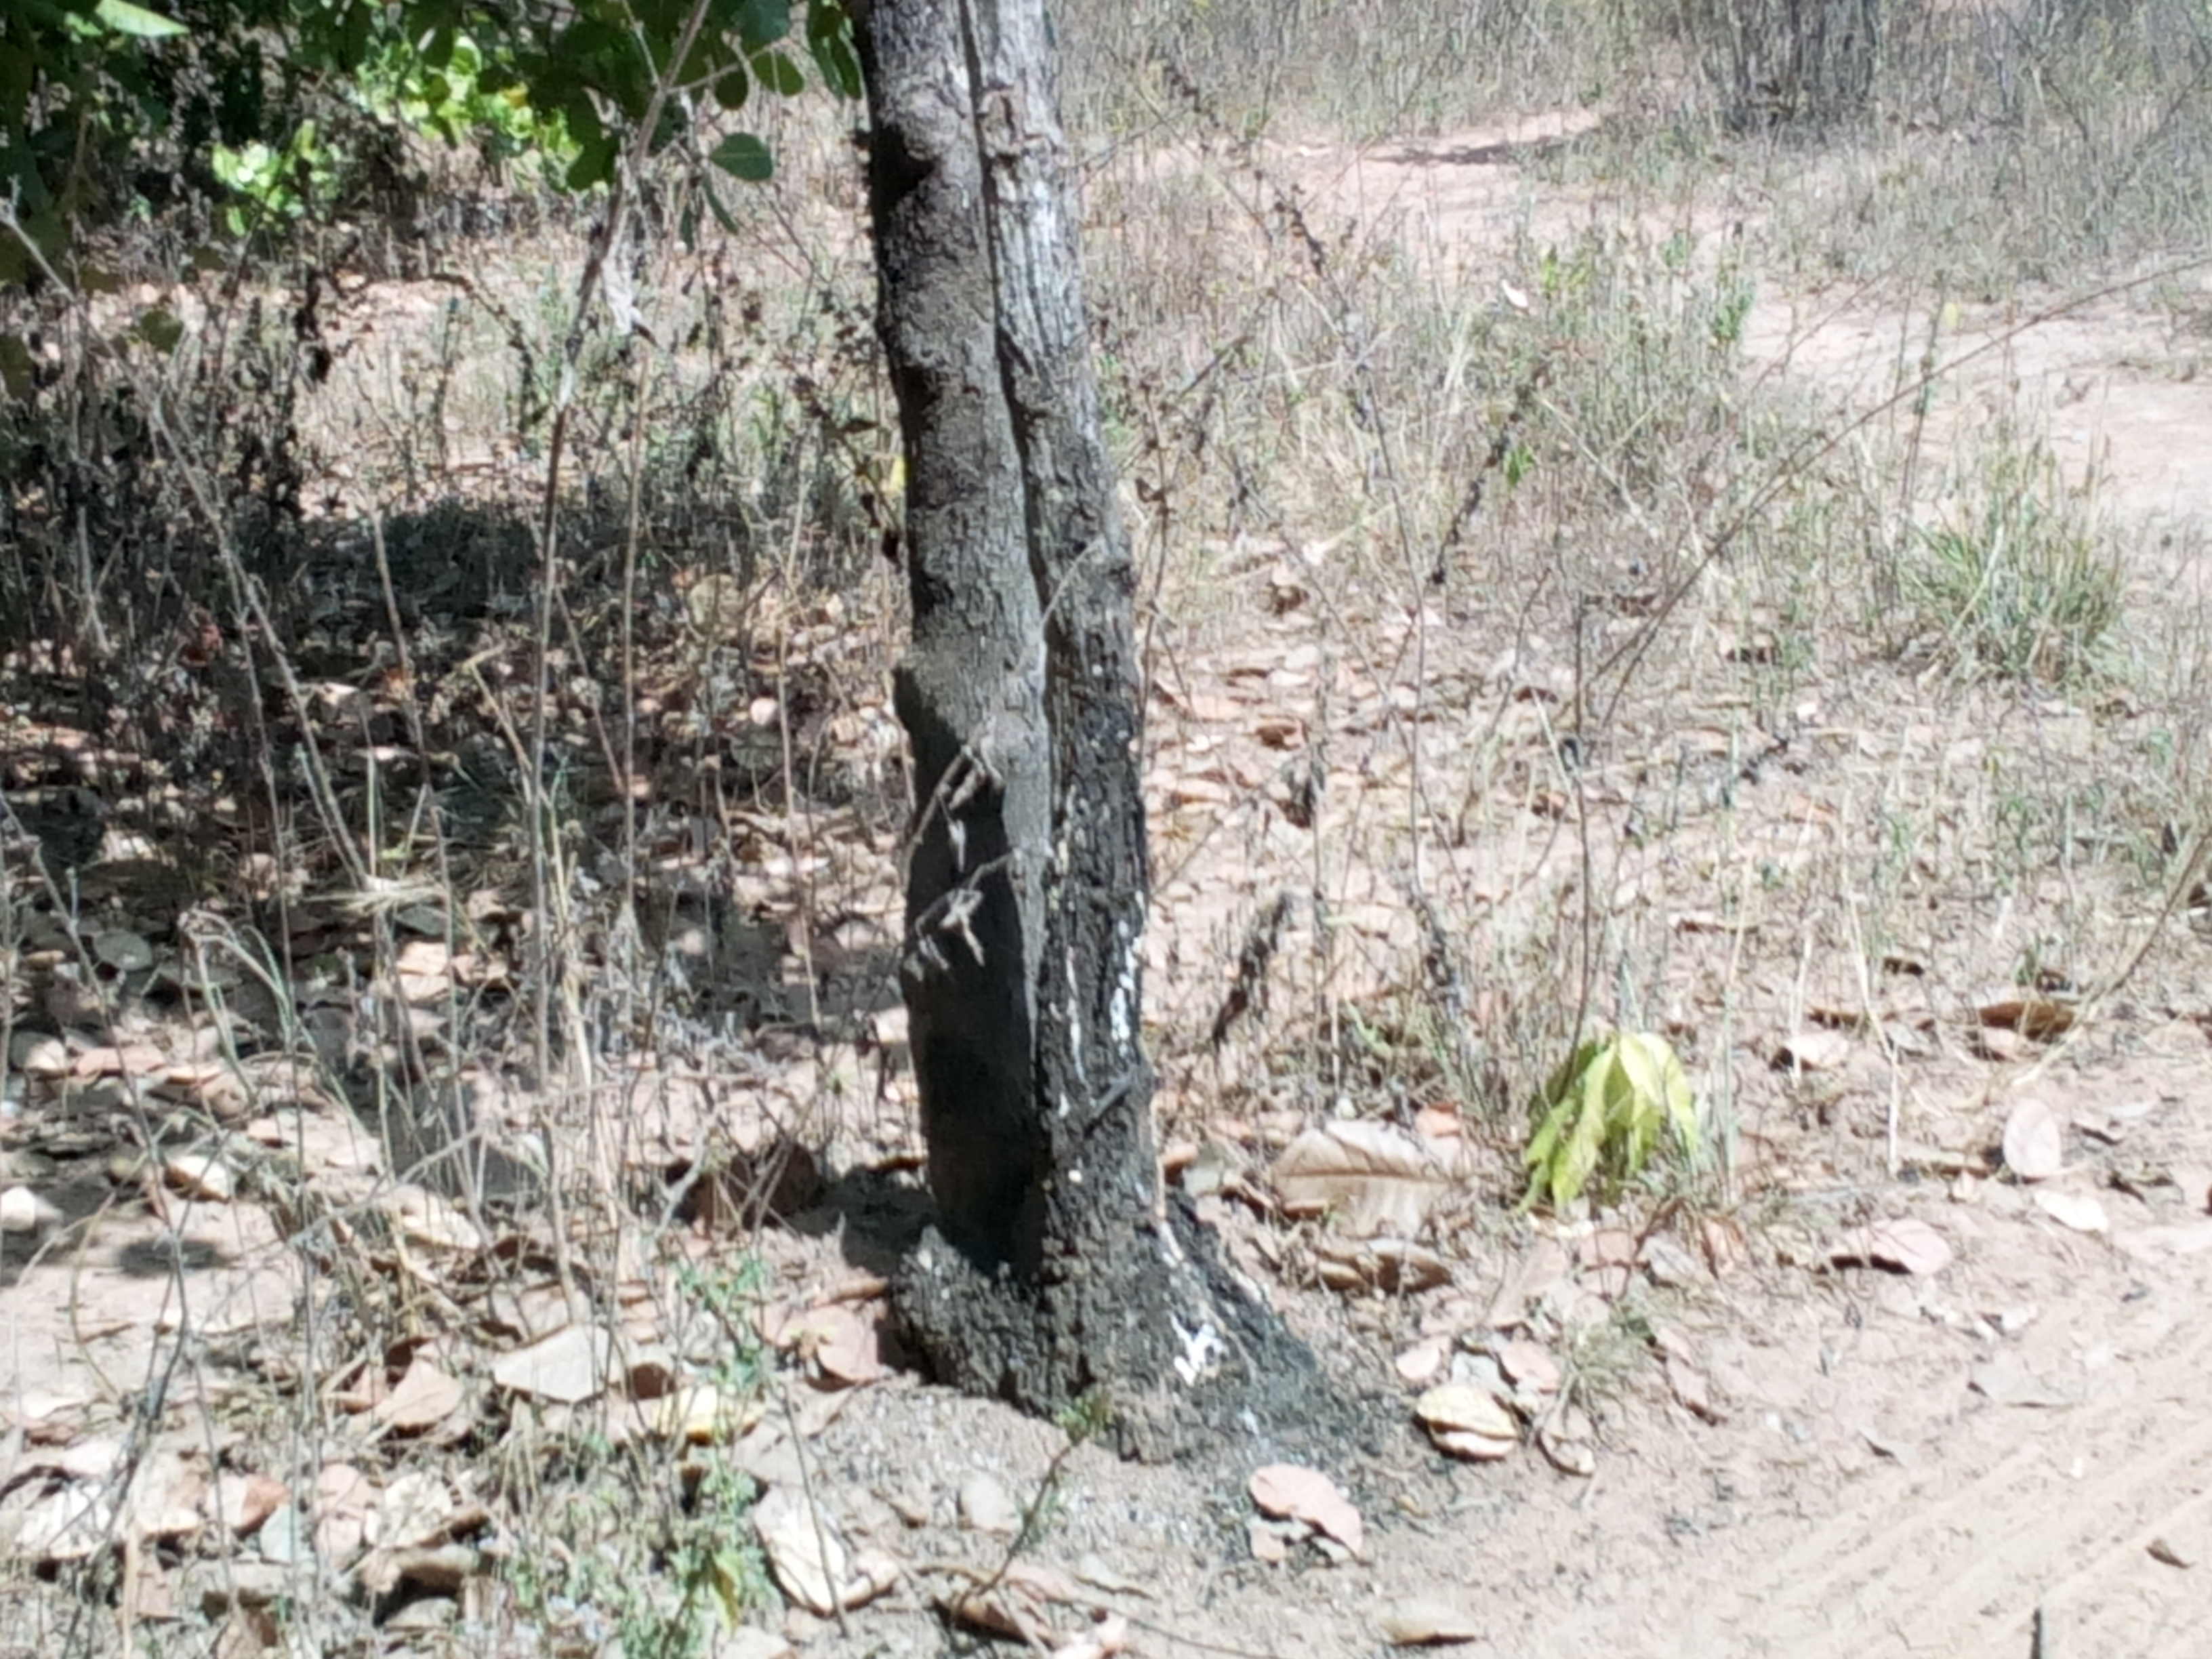Termites: (1024, 723, 1198, 1401)
